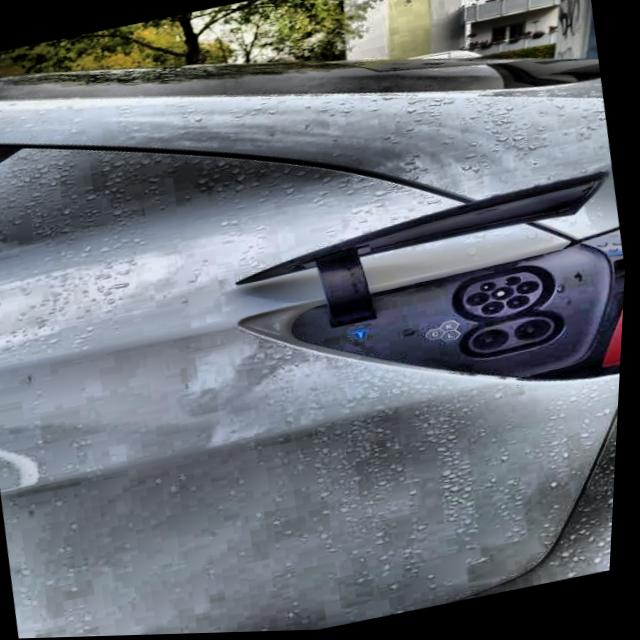inlet: (467, 275, 546, 320)
inlet-above-left: (483, 285, 499, 294)
inlet-above-right: (507, 279, 524, 289)
inlet-below-left: (484, 304, 507, 318)
inlet-below-right: (510, 298, 532, 312)
inlet-center: (494, 289, 517, 303)
inlet-center-left: (469, 295, 492, 309)
inlet-center-right: (519, 284, 542, 297)
